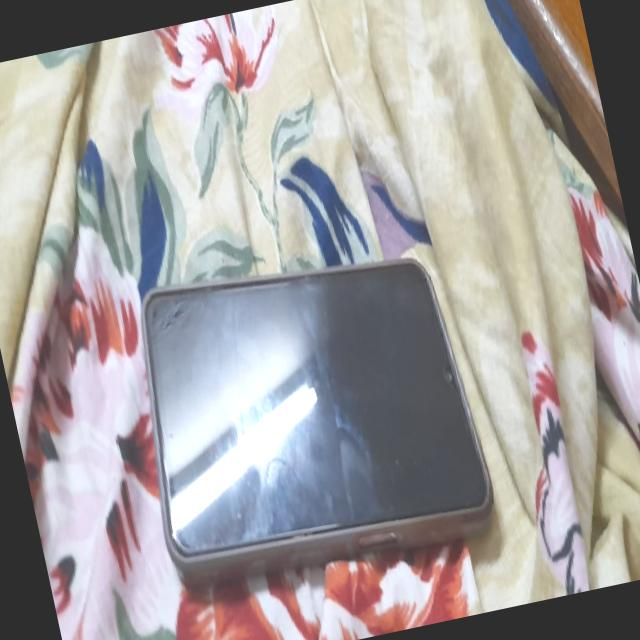Mobile - Recyclable: (109, 223, 501, 600)
